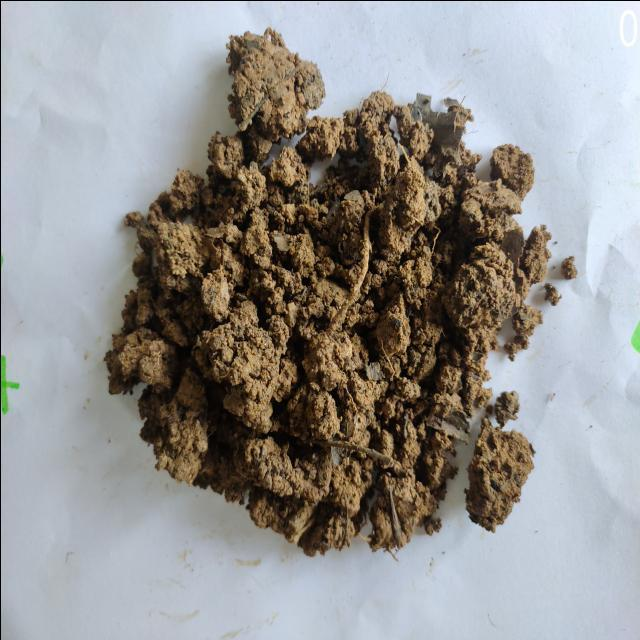soil: (206, 185, 461, 446)
